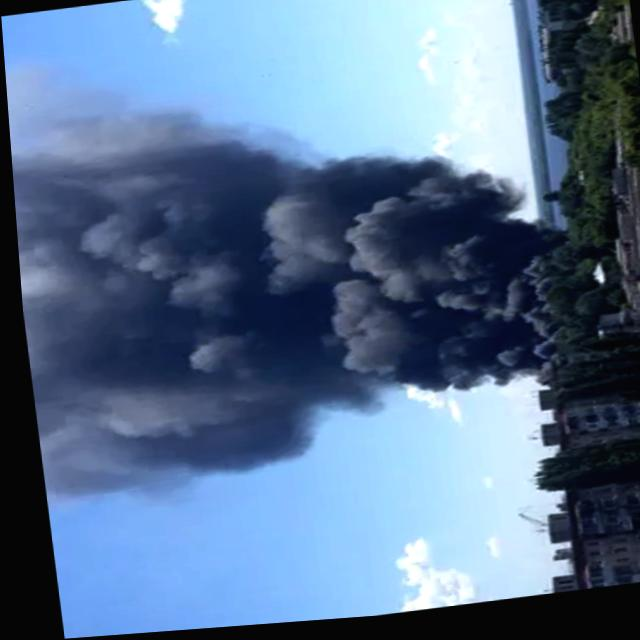Smoke: (5, 62, 577, 513)
